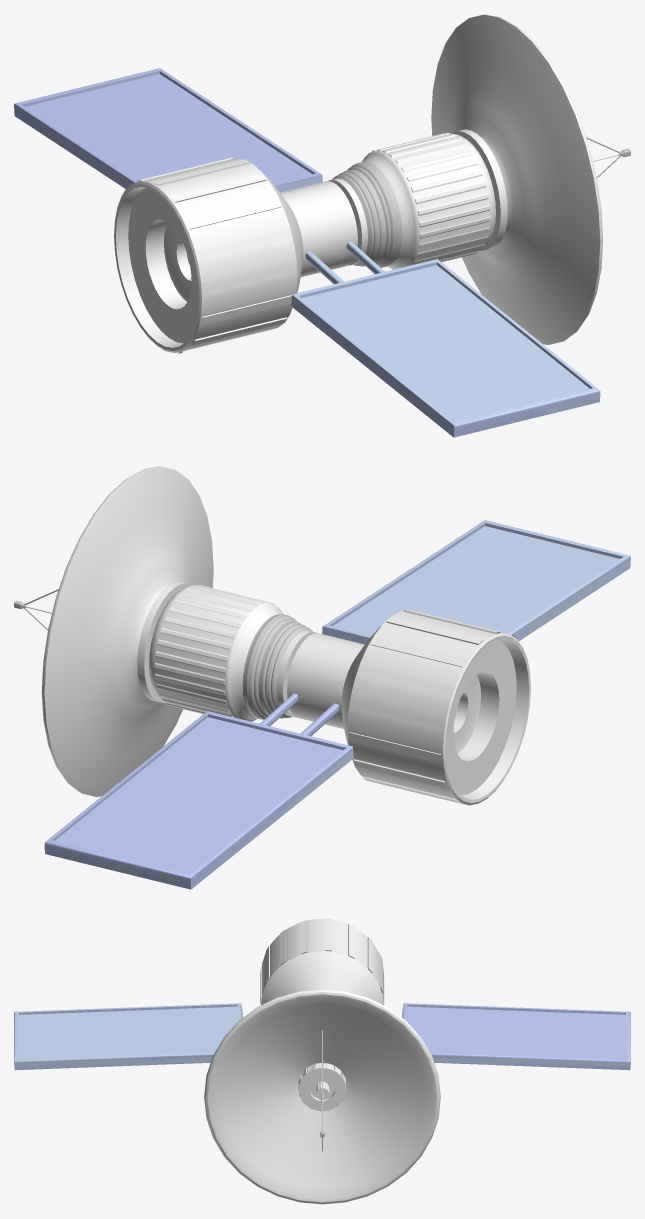
The model's file is satellite.glb.
3 renders of one model, top to bottom at view 1: azimuth 30°, elevation 25°; view 2: azimuth 150°, elevation 25°; view 3: azimuth 270°, elevation 25°, orthographic. The views are drawn at different scales.
Visible parts, largest first — view 1: Satélite_Cylinder.001, Satélite_Cylinder.004, Placas_Cylinder.001, Placas_Cylinder.002, Couro_Cylinder.001, Couro_Cylinder; view 2: Satélite_Cylinder.001, Satélite_Cylinder.004, Placas_Cylinder.002, Placas_Cylinder.001, Couro_Cylinder.001, Couro_Cylinder; view 3: Satélite_Cylinder.001, Satélite_Cylinder.004, Placas_Cylinder.001, Placas_Cylinder.002.
Part boxes in pixels (<box>): Satélite_Cylinder.001: <box>114,14,618,353</box>; Satélite_Cylinder.004: <box>114,14,602,353</box>; Placas_Cylinder.001: <box>15,71,600,436</box>; Placas_Cylinder.002: <box>14,68,600,437</box>; Couro_Cylinder.001: <box>332,162,402,267</box>; Couro_Cylinder: <box>335,164,402,267</box>; Satélite_Cylinder.001: <box>26,467,530,805</box>; Satélite_Cylinder.004: <box>42,466,530,805</box>; Placas_Cylinder.002: <box>44,523,630,889</box>; Placas_Cylinder.001: <box>44,520,630,888</box>; Couro_Cylinder.001: <box>242,614,312,719</box>; Couro_Cylinder: <box>243,614,310,719</box>; Satélite_Cylinder.001: <box>204,918,440,1204</box>; Satélite_Cylinder.004: <box>204,918,440,1204</box>; Placas_Cylinder.001: <box>14,1003,630,1069</box>; Placas_Cylinder.002: <box>14,1003,630,1070</box>.
Size of the model in its own units: 6.21 by 3.85 by 10.02.
